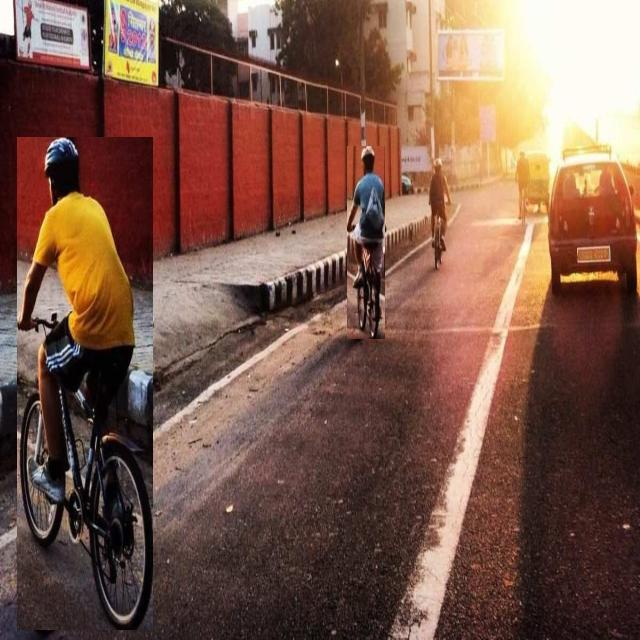bicycle: (18, 138, 153, 630), (348, 146, 385, 339), (430, 171, 446, 268)
car: (549, 151, 638, 293)
